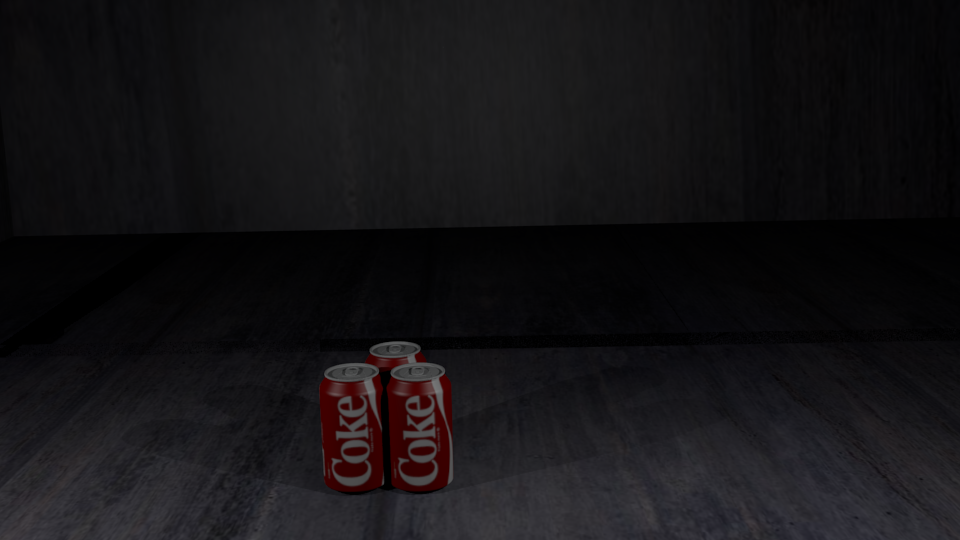cola_can: (319, 363, 387, 488), (386, 363, 452, 487), (365, 342, 425, 459)
